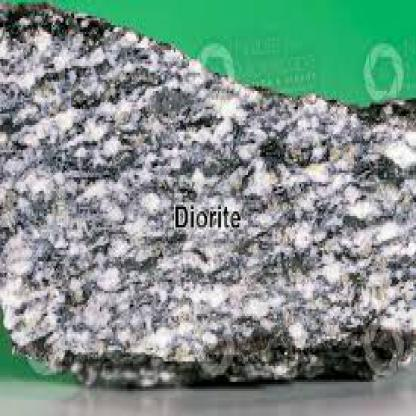Igneous_Diorite: (0, 2, 415, 389)
